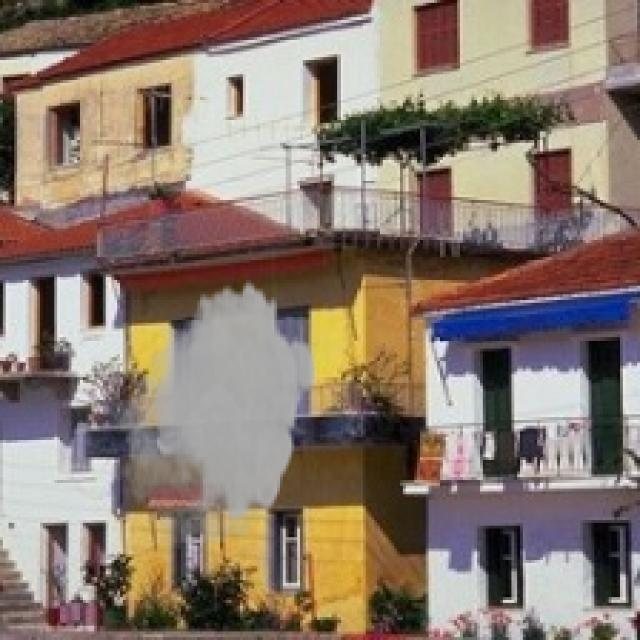Smoke: (111, 277, 318, 543)
